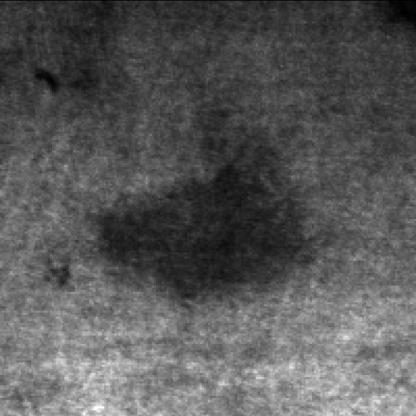patches: (92, 150, 322, 299)
